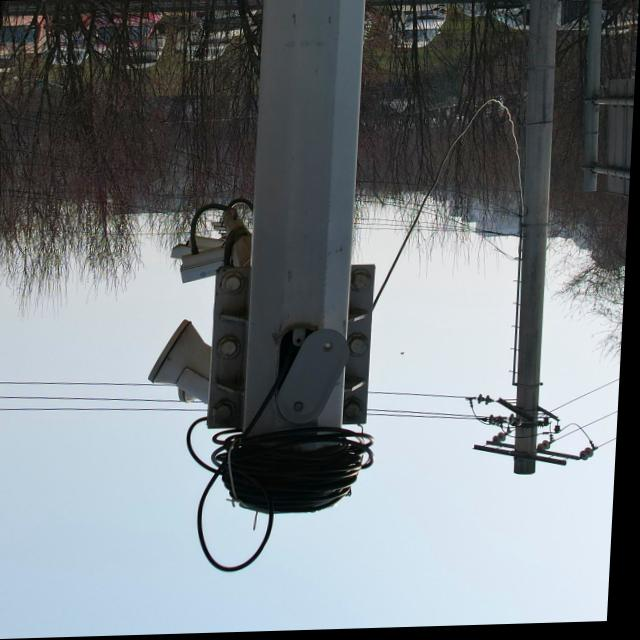Regular bolt: (218, 404, 238, 424), (223, 339, 242, 359), (355, 273, 373, 293), (354, 338, 371, 358), (349, 403, 366, 422), (228, 276, 245, 294)
